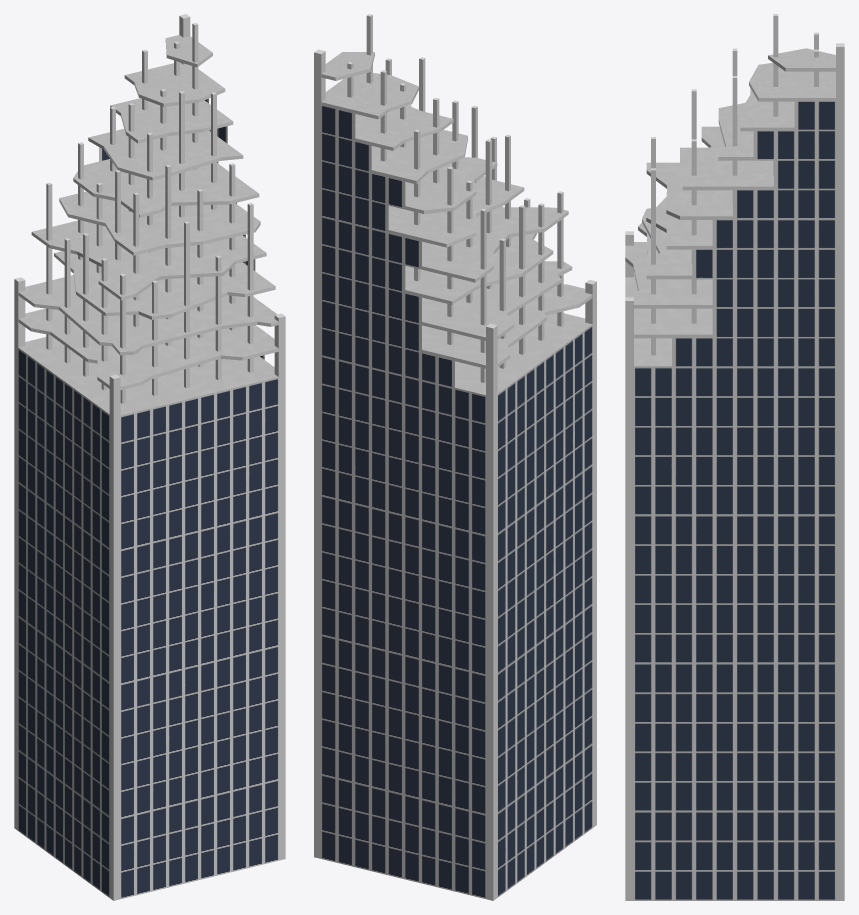
File: Building_DT_HT_W1_001.fbx
3 views of the same model, side by side, from view 1: azimuth 30°, elevation 25°; view 2: azimuth 150°, elevation 25°; view 3: azimuth 270°, elevation 25° (orthographic). The views are drawn at different scales.
Parts seen in each view (by area): view 1: Building_DT_HT_W1_001; view 2: Building_DT_HT_W1_001; view 3: Building_DT_HT_W1_001.
Part boxes in pixels (x1,y1,x2,y2): Building_DT_HT_W1_001: (14, 14, 285, 900); Building_DT_HT_W1_001: (314, 14, 596, 900); Building_DT_HT_W1_001: (625, 14, 844, 900).
Bounding box in the file's own units: 29.62 × 130 × 29.62.
